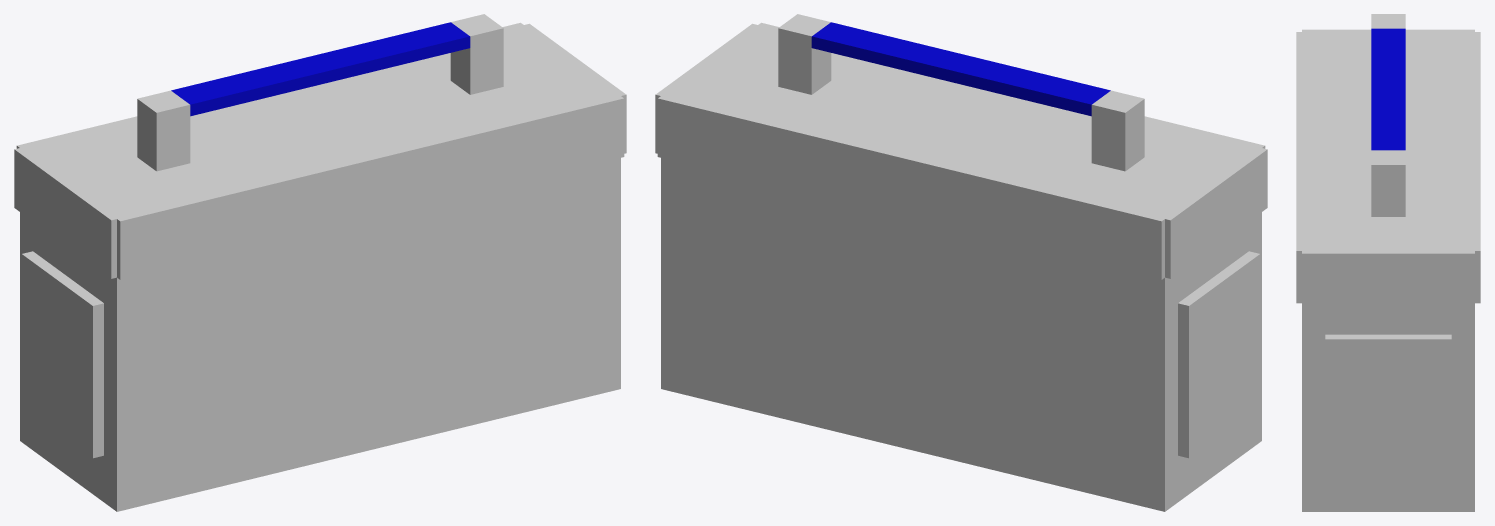
File: AmmoBox1.fbx
3 views of the same model, side by side, from view 1: azimuth 30°, elevation 25°; view 2: azimuth 150°, elevation 25°; view 3: azimuth 270°, elevation 25° (orthographic). The views are drawn at different scales.
Parts seen in each view (by area): view 1: Box001; view 2: Box001; view 3: Box001.
Part boxes in pixels (box(x1,y1,x2,y2)): Box001: box(14, 14, 626, 511); Box001: box(655, 14, 1267, 511); Box001: box(1296, 14, 1480, 511).
Bounding box in the file's own units: 47 × 30 × 16.
